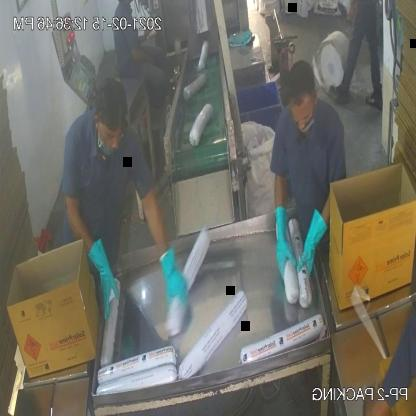glove: (84, 232, 118, 334), (156, 242, 191, 318), (300, 204, 331, 284), (271, 197, 298, 283)
